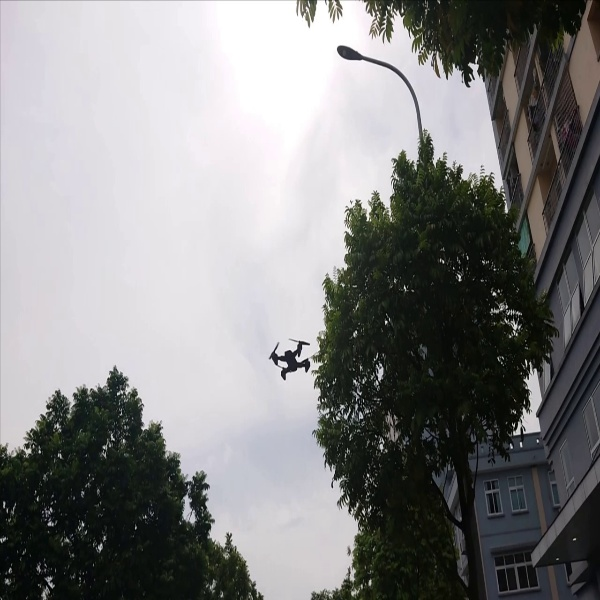drone: (265, 333, 315, 390)
